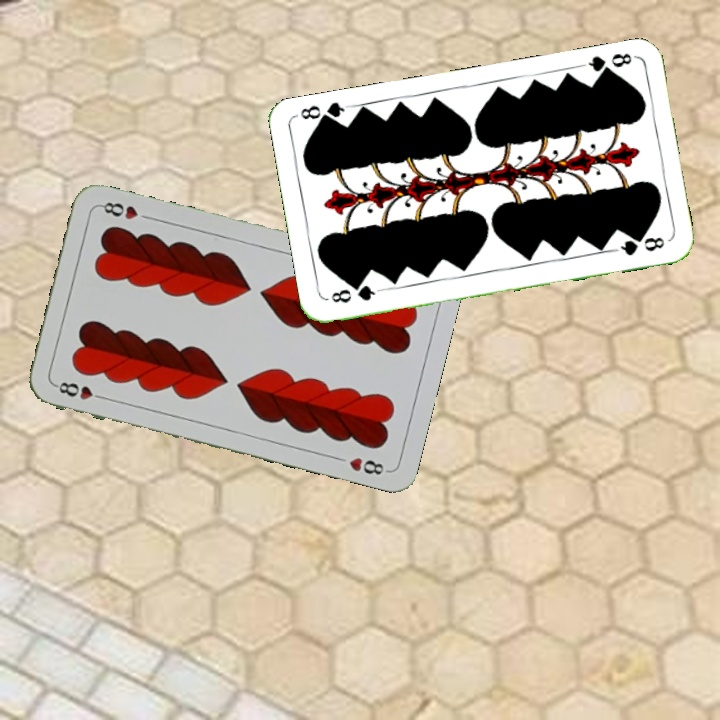G8: (578, 49, 637, 80), (327, 281, 383, 306)
H8: (52, 377, 110, 403)
